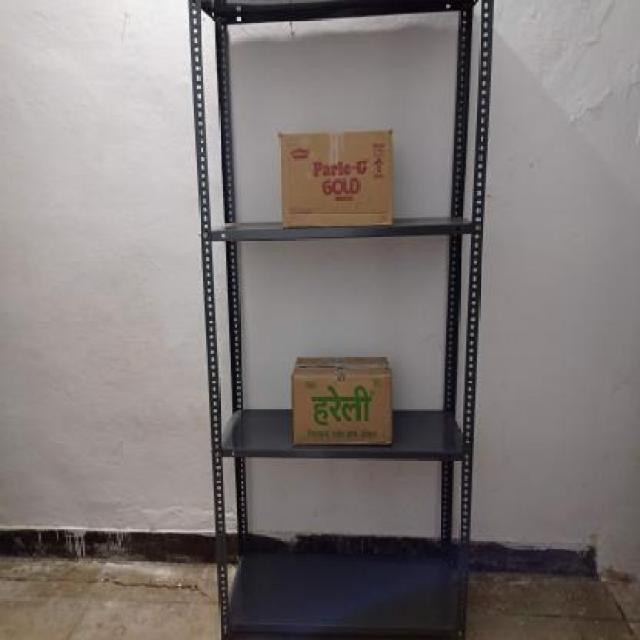box: (278, 130, 394, 227), (289, 373, 394, 444)
